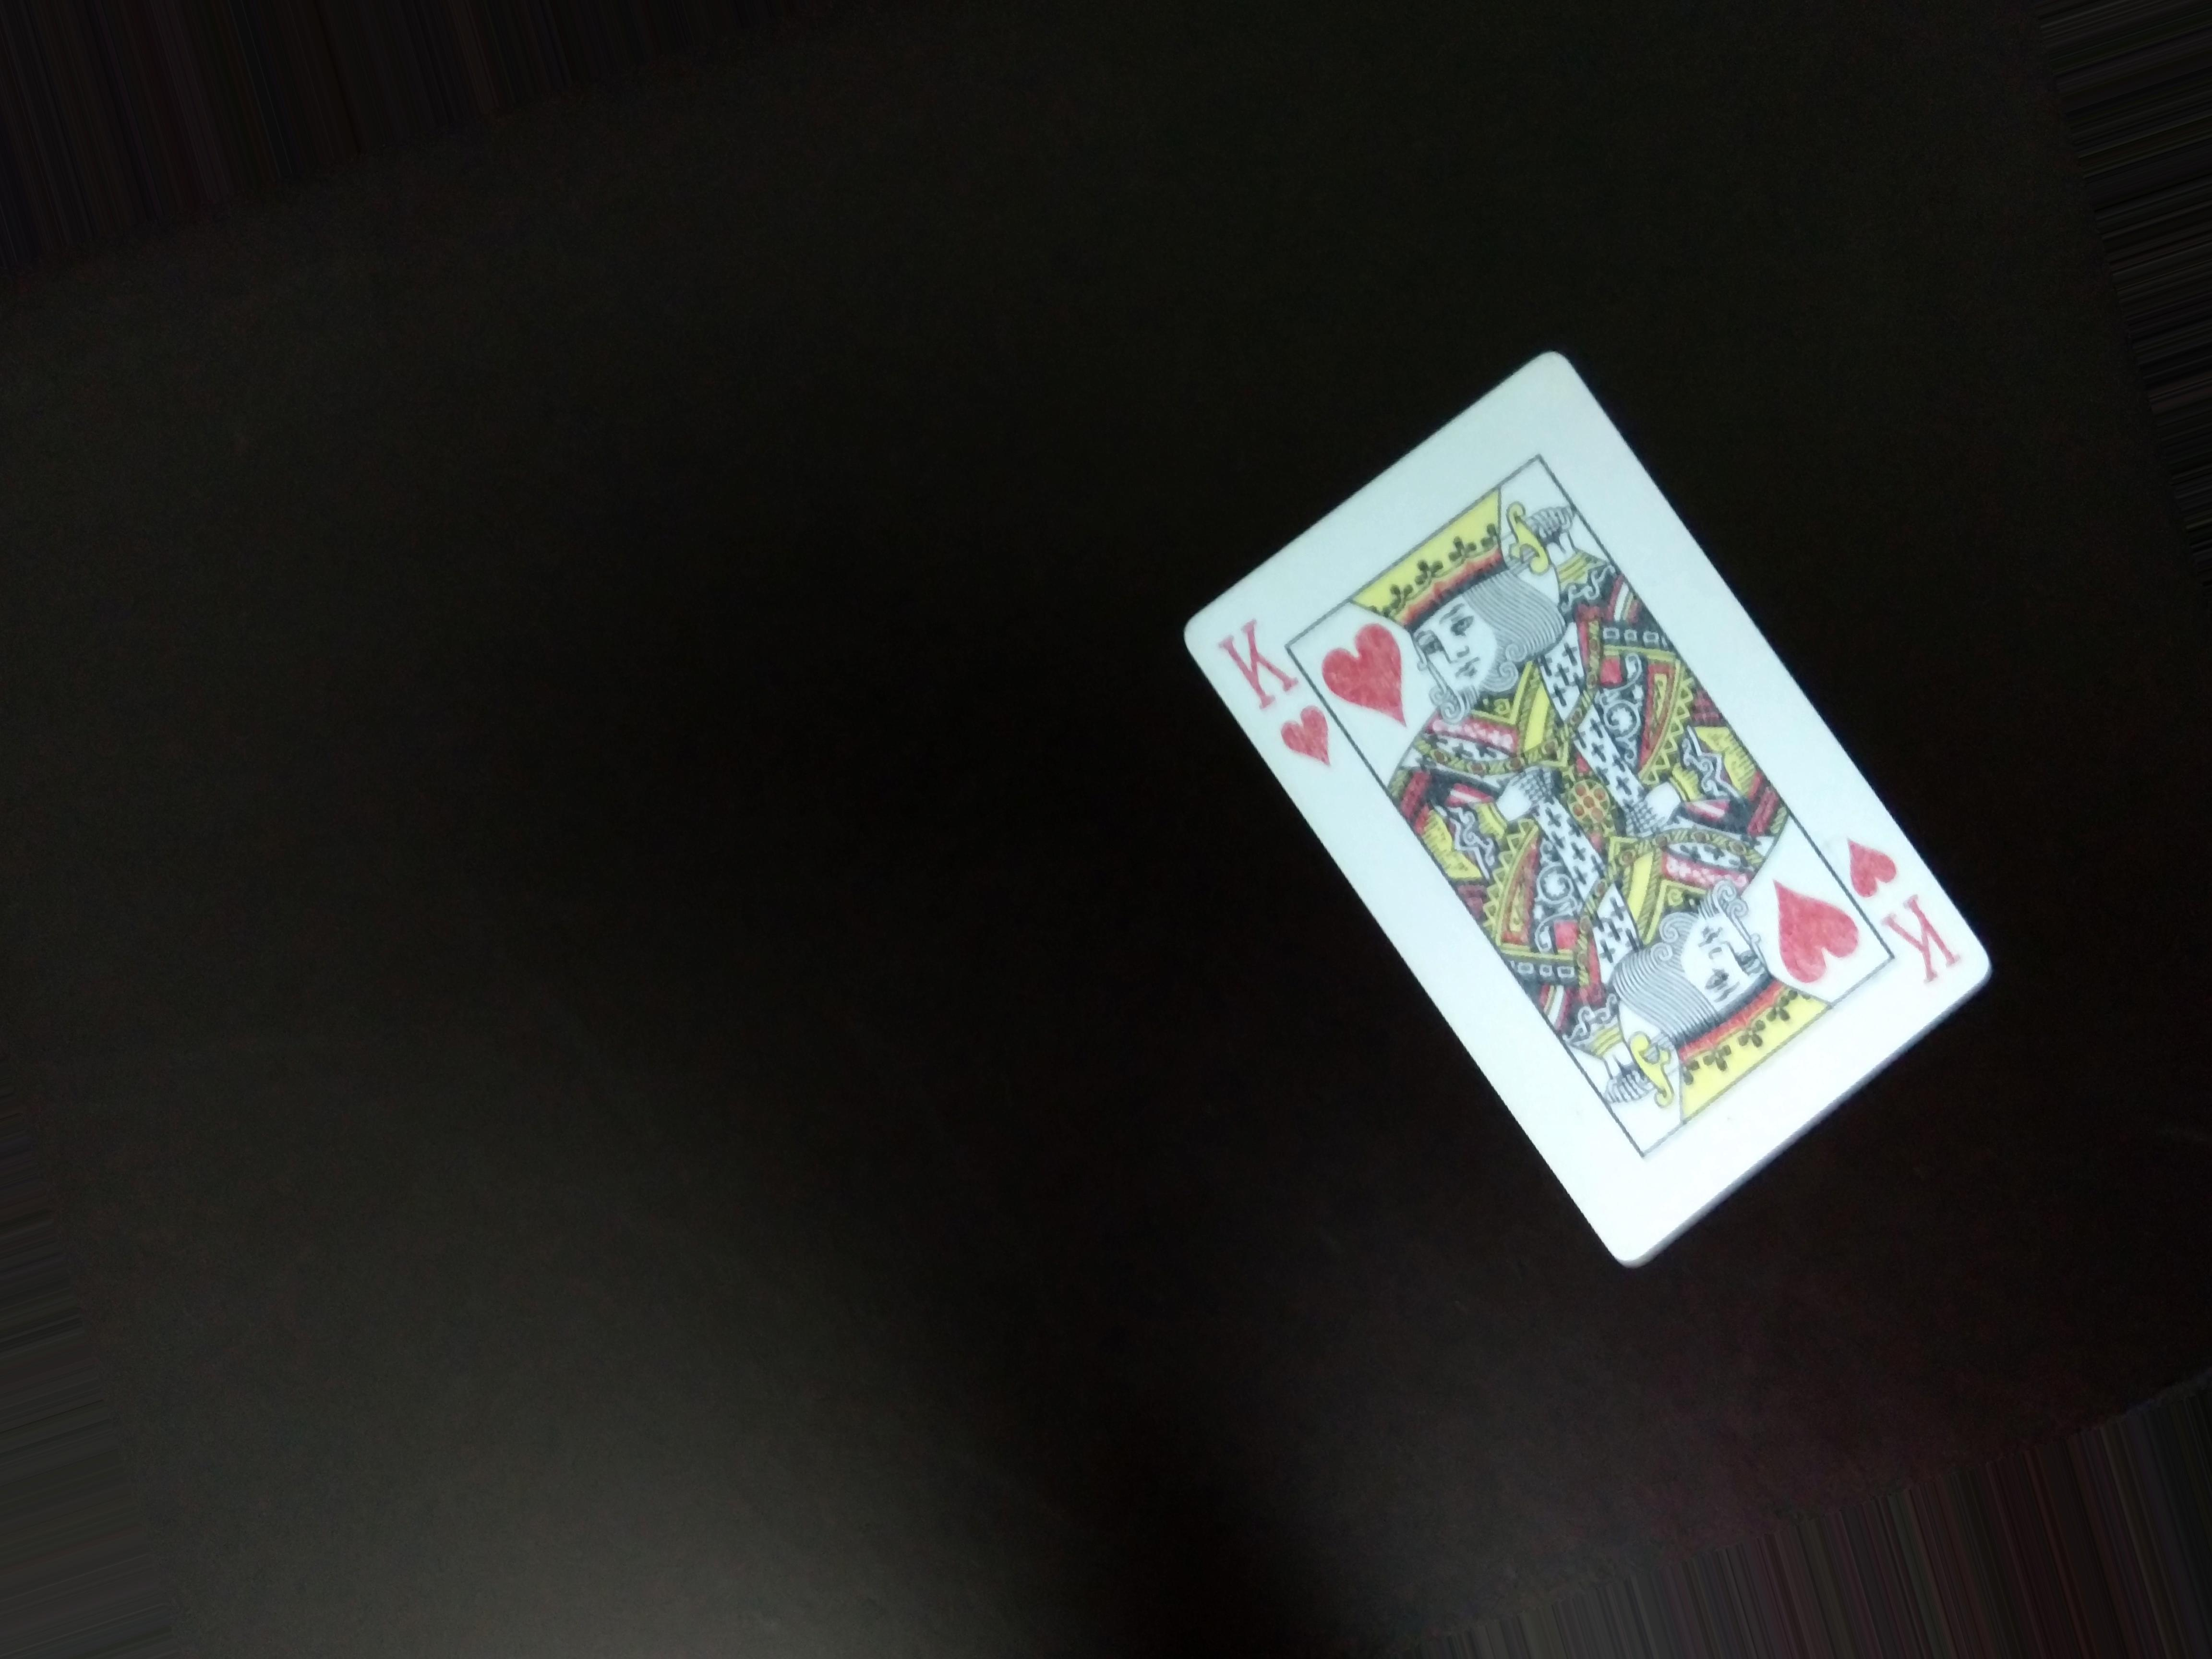KH: (1214, 608, 1348, 788)
